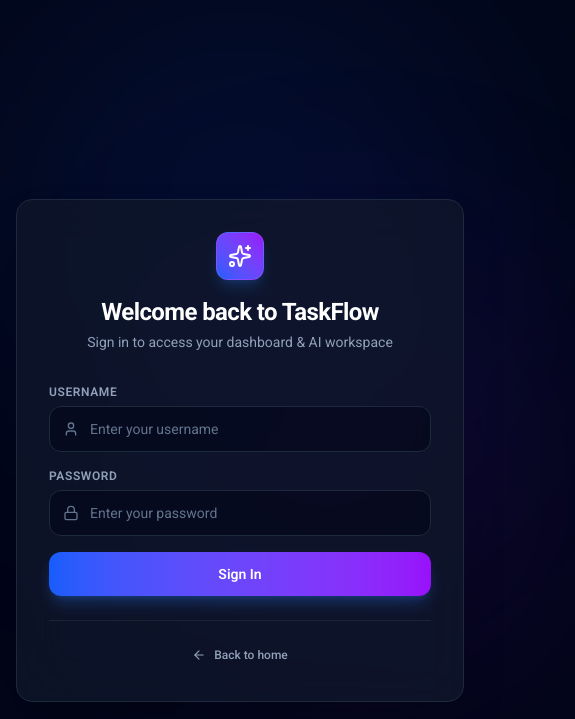
Test: Login Page › should show loading state while logging in
The width and height of the screenshot is (575, 719).
In the field with placeholder "Enter your username": (240, 428) x1=49 y1=406 x2=431 y2=452, type "mk"
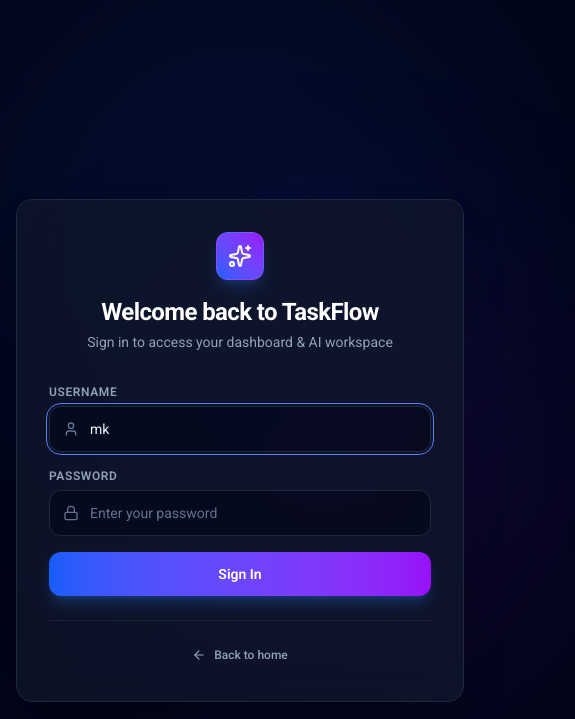
In the password field with placeholder "Enter your password": (240, 512) x1=49 y1=490 x2=431 y2=536, type "mk123"
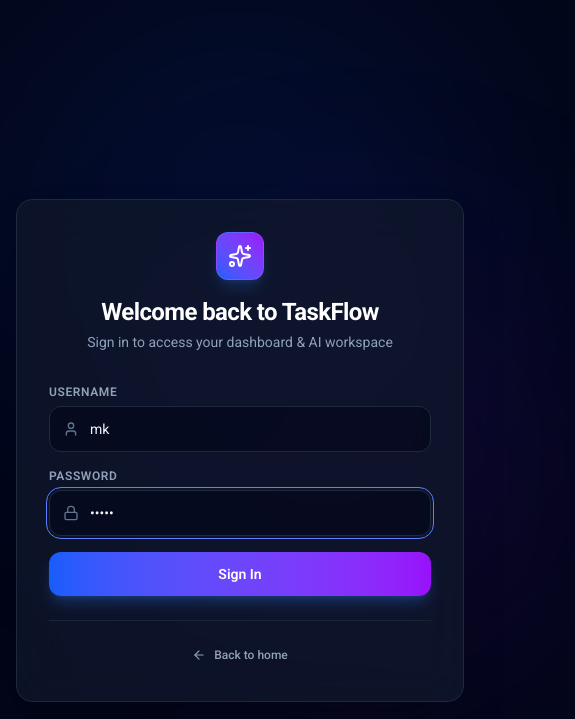
Click the button "Sign In": click(240, 574) x1=49 y1=552 x2=431 y2=596
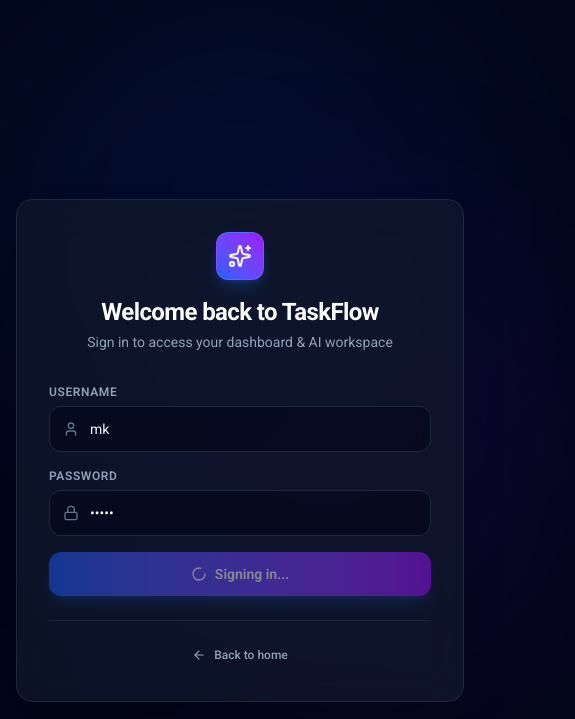
Expected: the text "Signing in..." is shown, x1=215 y1=564 x2=289 y2=584
